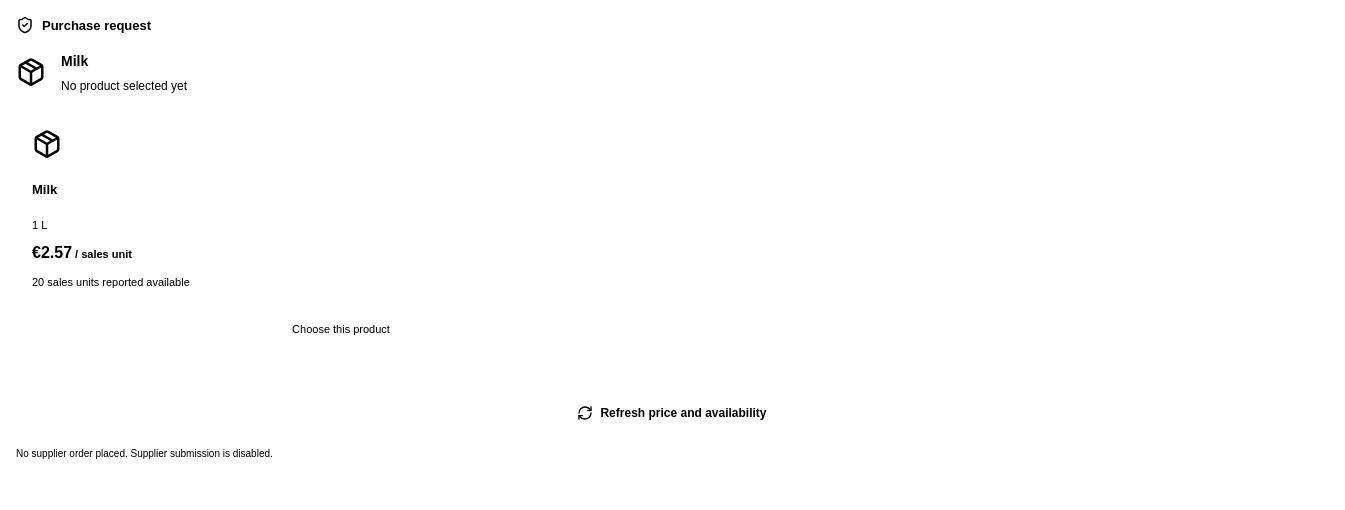
it: inline purchase decisions › refreshes supplier evidence after preparation expires and hides actions for closed requests
The image size is (1345, 510).
Later steps or results of the test are not shown.
Click the button "Choose this product" at x=341, y=329, box [32, 313, 650, 345]
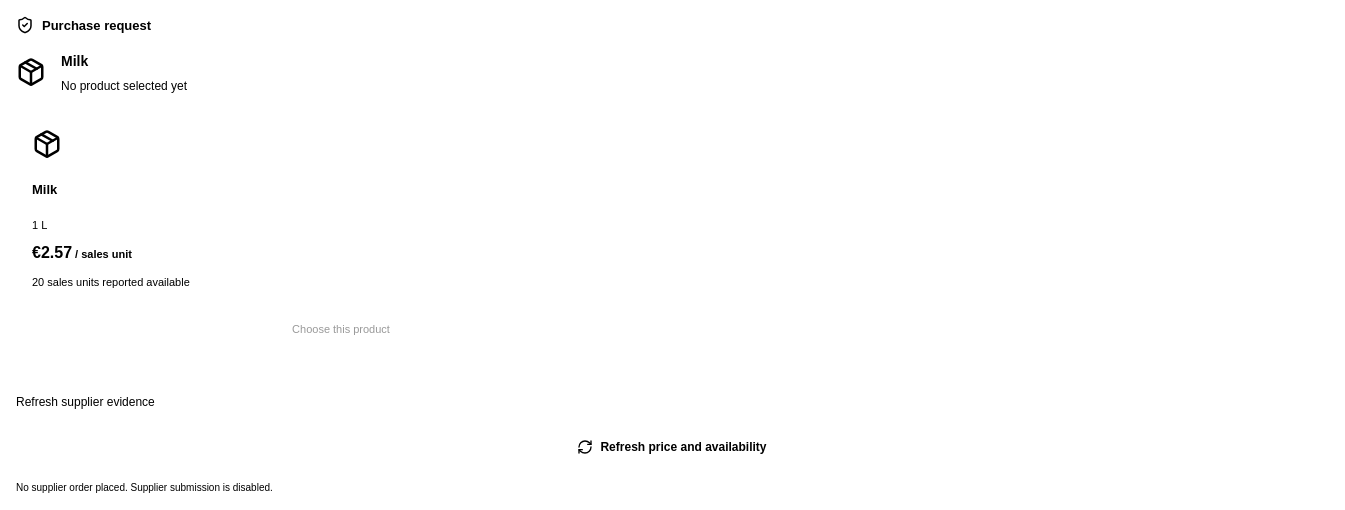
Now the button "Choose this product" is disabled, box [32, 313, 650, 345]
Click the button "Refresh price and availability" at x=672, y=447, box [16, 427, 1328, 467]
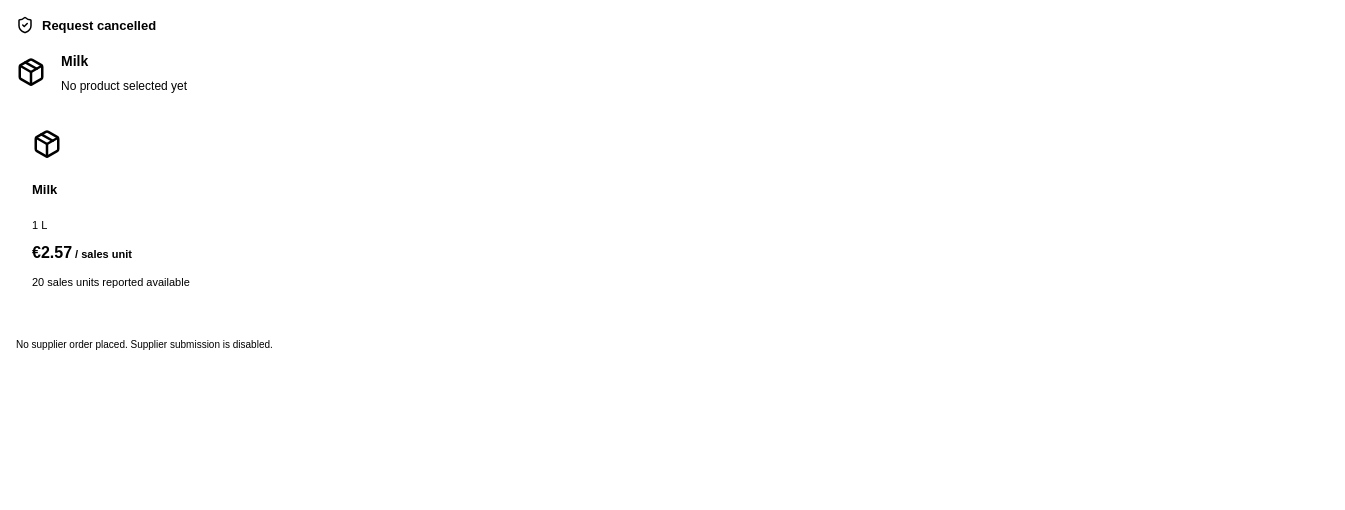
Now the text "Request cancelled" is shown, box [42, 18, 156, 32]
